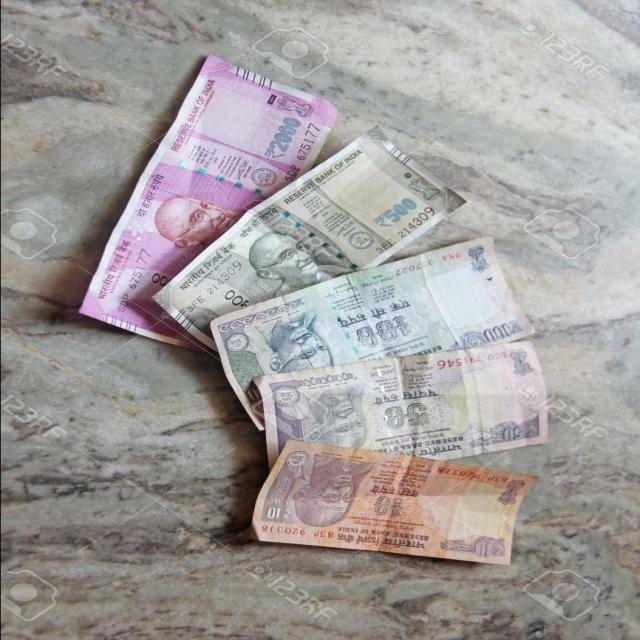50IndianRupees: (263, 339, 552, 463)
